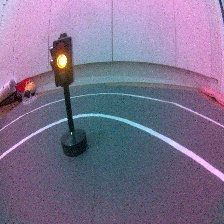amber: (47, 32, 92, 160)
